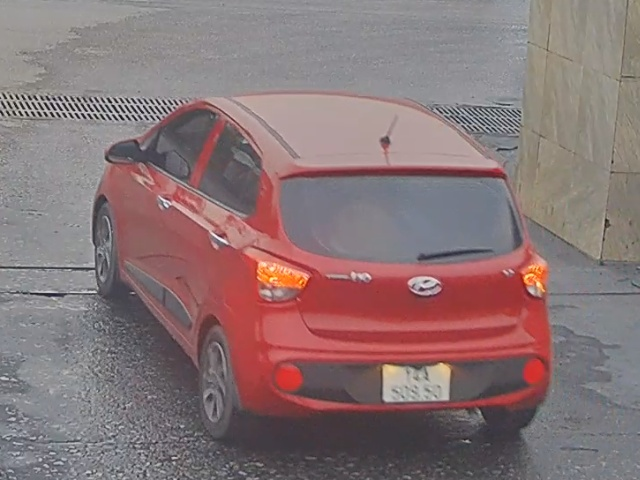vehicle plate: (382, 359, 462, 409)
